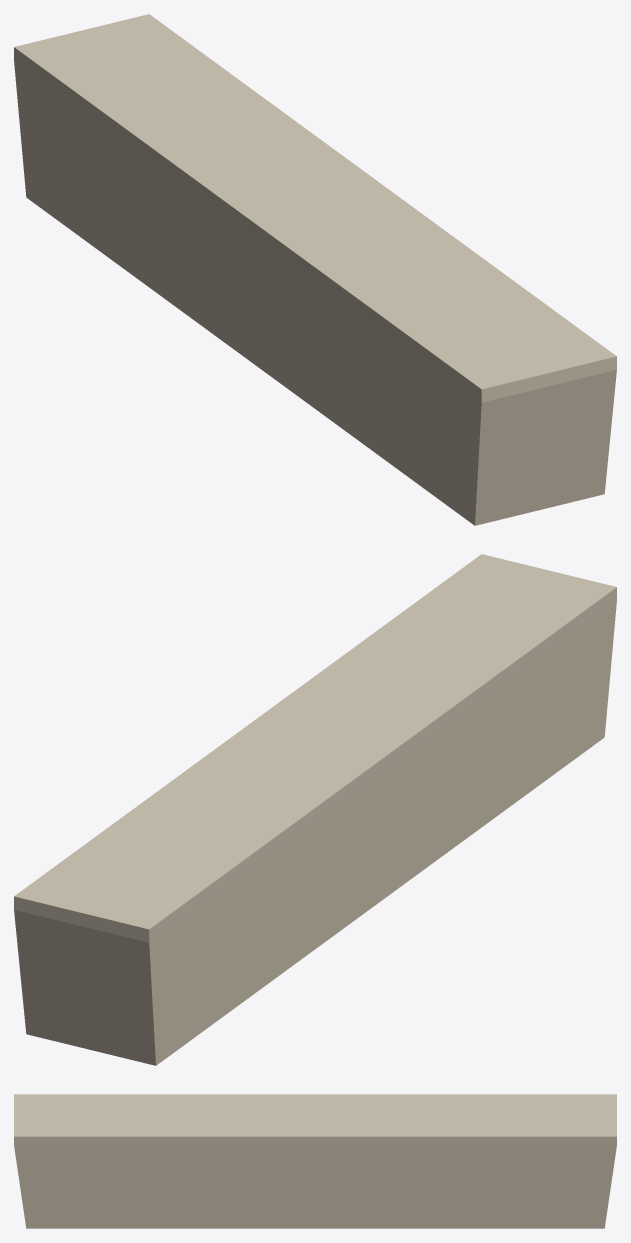
File: table.fbx
3 renders of one model, top to bottom at view 1: azimuth 30°, elevation 25°; view 2: azimuth 150°, elevation 25°; view 3: azimuth 270°, elevation 25°, orthographic. The views are drawn at different scales.
Parts seen in each view (by area): view 1: Cube; view 2: Cube; view 3: Cube.
Part boxes in pixels (x1,y1,x2,y2): Cube: (14,14,616,525); Cube: (14,554,616,1065); Cube: (14,1094,616,1228).
Size of the model in its own units: 60.14 by 61.24 by 360.
